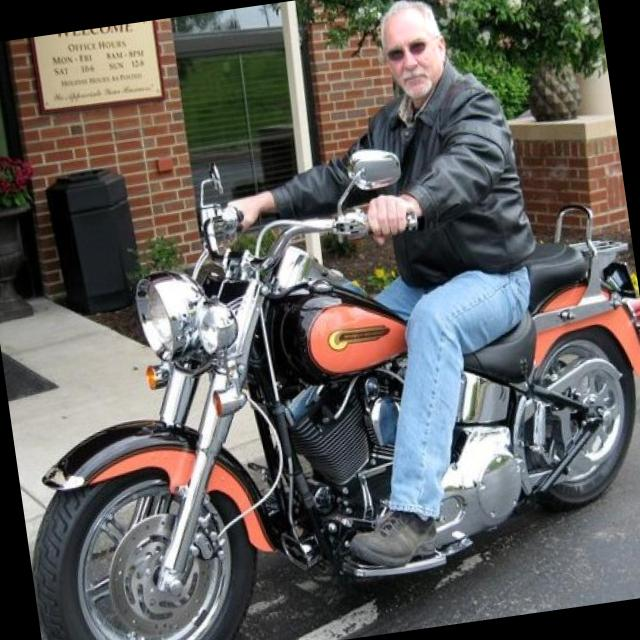without helmet: (372, 2, 467, 116)
